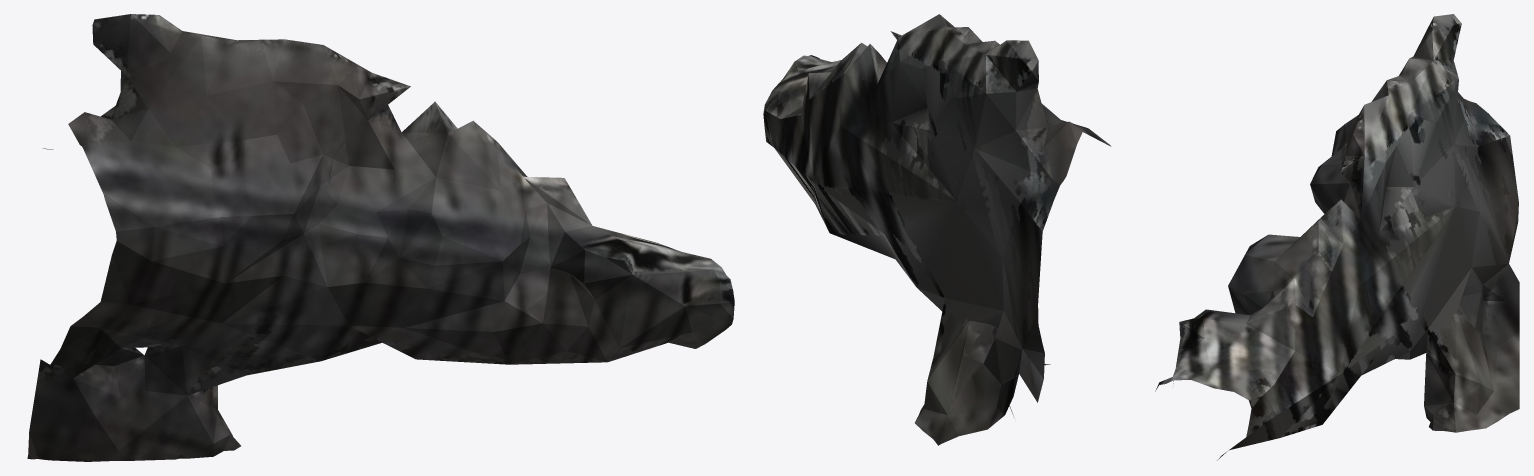
3 renders of one model, left to right at view 1: azimuth 30°, elevation 25°; view 2: azimuth 150°, elevation 25°; view 3: azimuth 270°, elevation 25°, orthographic. The views are drawn at different scales.
Size of the model in its own units: 0.8374 by 0.7436 by 0.6673.
4 materials, 4 textured.
